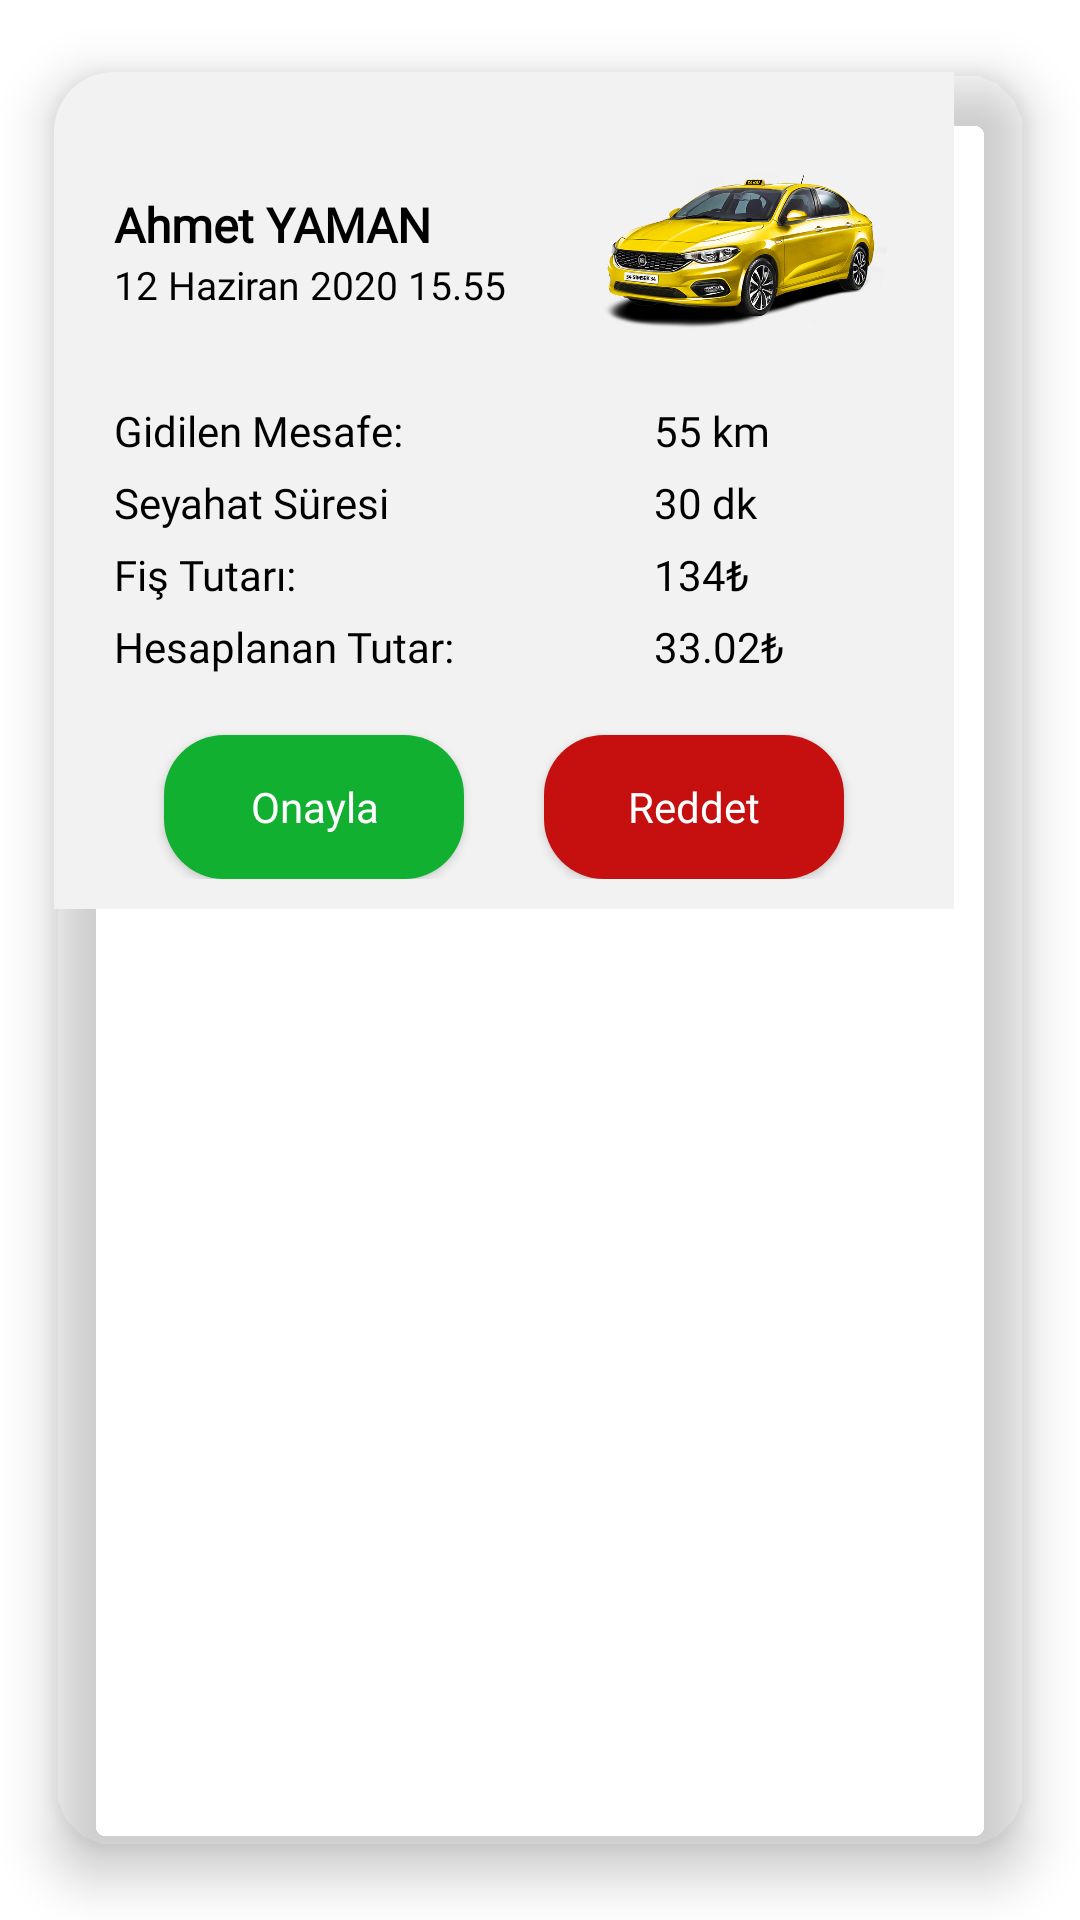

Named icons in this screenshot (1080 × 1920) and their bounding boxes, (x1, y1, x2, y2):
taxi: (607, 175, 875, 327)
